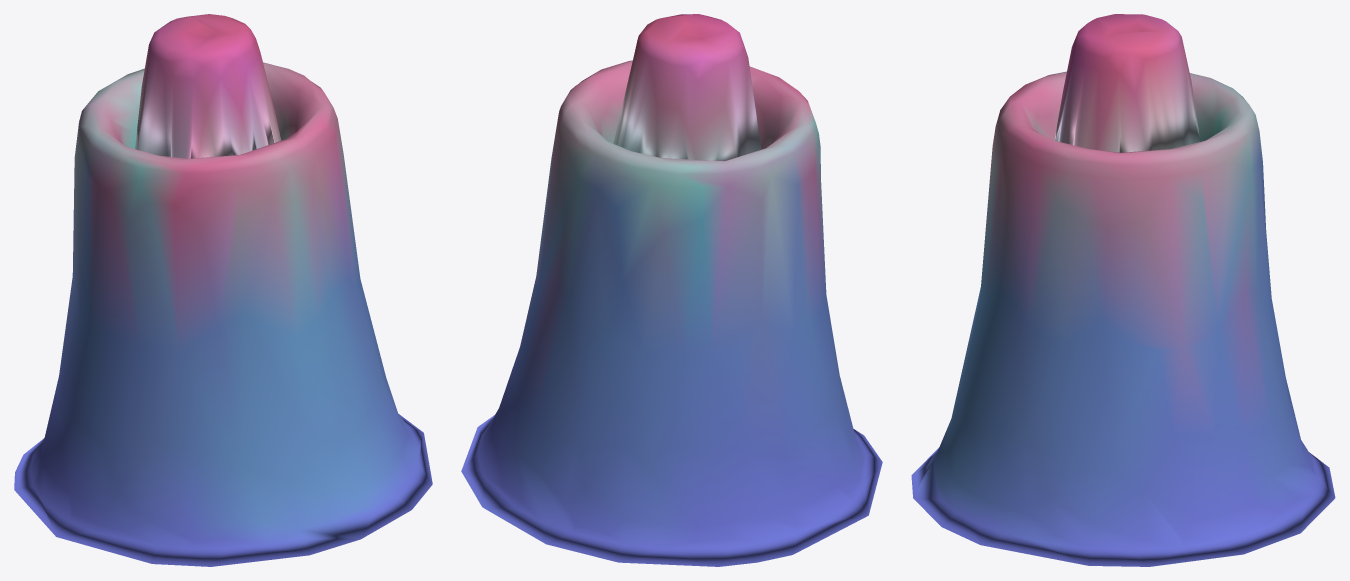
3 views of the same model, side by side, from view 1: azimuth 30°, elevation 25°; view 2: azimuth 150°, elevation 25°; view 3: azimuth 270°, elevation 25° (orthographic).
Parts seen in each view (by area): view 1: LOD 4_9fa1a421-f8e0-511a-904e-ad4428e58ba6; view 2: LOD 4_9fa1a421-f8e0-511a-904e-ad4428e58ba6; view 3: LOD 4_9fa1a421-f8e0-511a-904e-ad4428e58ba6.
Part boxes in pixels (<box>): LOD 4_9fa1a421-f8e0-511a-904e-ad4428e58ba6: <box>14,14,432,566</box>; LOD 4_9fa1a421-f8e0-511a-904e-ad4428e58ba6: <box>461,14,882,566</box>; LOD 4_9fa1a421-f8e0-511a-904e-ad4428e58ba6: <box>911,14,1335,566</box>.
Size of the model in its own units: 1.25 by 1.49 by 1.25.
